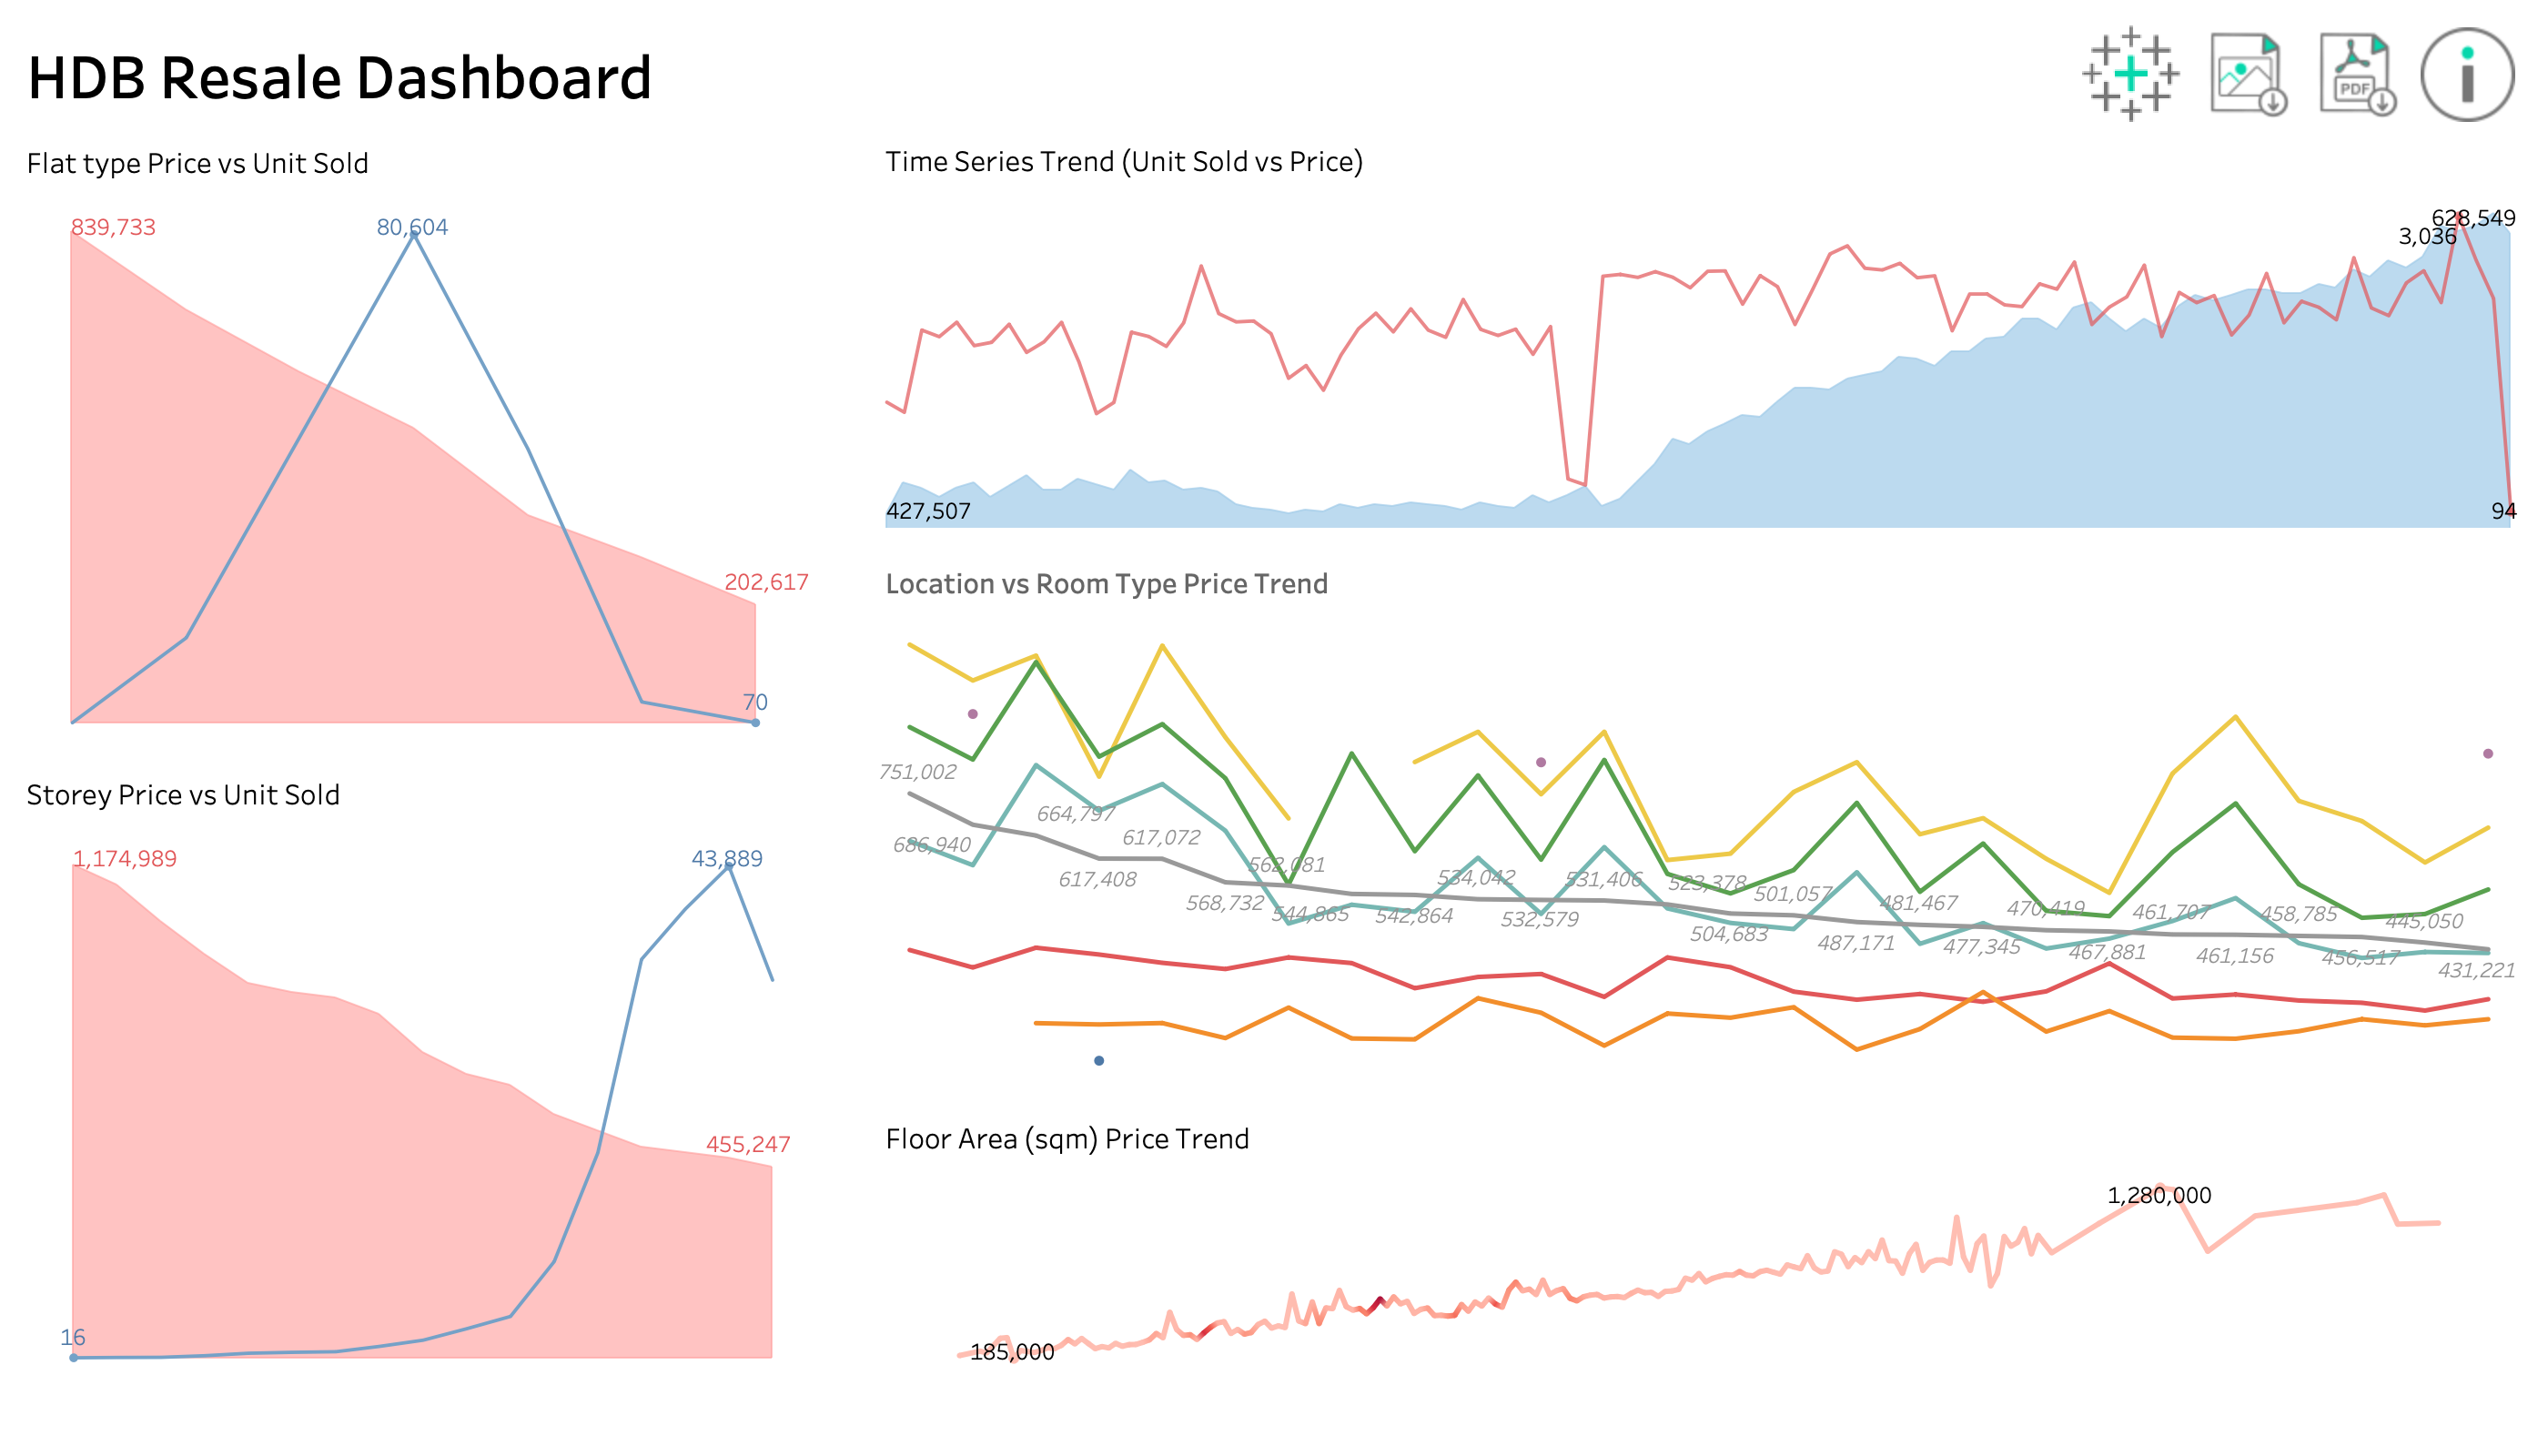

The page's visual inventory and layout, read from the dashboard file:
{"tool":"tableau","page":{"name":"Dashboard 1","canvas":[1400,800],"ordinal":0},"visuals":[{"type":"text","box":[8,8,602,66]},{"type":"blank","box":[610,8,534,66]},{"type":"image","param":"/Users/dong/Documents/Projects/[PY ML VS] HDB/Icons & Images/contact-public.png","box":[1144,8,60,66]},{"type":"dashboard-object","box":[1204,8,60,66]},{"type":"dashboard-object","box":[1264,8,60,66]},{"type":"dashboard-object","box":[1324,8,68,66]},{"type":"text","box":[8,74,448,30]},{"type":"text","box":[478,78,910,27]},{"type":"blank","box":[0,80,1400,235]},{"type":"worksheet","title":"flat type","mark":"Automatic","rows":["resale_price","flat_type"],"cols":["flat_type"],"box":[8,104,448,317]},{"type":"worksheet","title":"timeseries","mark":"Automatic","rows":["resale_price","resale_price"],"cols":["month"],"box":[478,105,910,189]},{"type":"text","box":[478,294,910,43]},{"type":"text","box":[0,315,1400,250]},{"type":"worksheet","title":"town","mark":"Line","rows":["resale_price","resale_price"],"cols":["town"],"box":[478,337,910,262]},{"type":"text","box":[8,421,448,30]},{"type":"worksheet","title":"level","mark":"Automatic","rows":["resale_price","storey_range"],"cols":["storey_range"],"box":[8,451,448,309]},{"type":"blank","box":[0,565,1400,235]},{"type":"text","box":[478,599,910,43]},{"type":"worksheet","title":"floor area","mark":"Line","rows":["resale_price"],"cols":["floor_area_sqm"],"box":[478,642,910,114]}]}

Visuals, with their boxes in screenshot pixels (x1, y1, x2, y2), scaled from the page's 1400x800 canvas onto the 2548x1456 screenshot:
text: (x1=15, y1=15, x2=1110, y2=135)
blank: (x1=1110, y1=15, x2=2082, y2=135)
image: (x1=2082, y1=15, x2=2191, y2=135)
dashboard-object: (x1=2191, y1=15, x2=2300, y2=135)
dashboard-object: (x1=2300, y1=15, x2=2410, y2=135)
dashboard-object: (x1=2410, y1=15, x2=2533, y2=135)
text: (x1=15, y1=135, x2=830, y2=189)
text: (x1=870, y1=142, x2=2526, y2=191)
blank: (x1=0, y1=146, x2=2547, y2=573)
"flat type" worksheet: (x1=15, y1=189, x2=830, y2=766)
"timeseries" worksheet: (x1=870, y1=191, x2=2526, y2=535)
text: (x1=870, y1=535, x2=2526, y2=613)
text: (x1=0, y1=573, x2=2547, y2=1028)
"town" worksheet (Line marks): (x1=870, y1=613, x2=2526, y2=1090)
text: (x1=15, y1=766, x2=830, y2=821)
"level" worksheet: (x1=15, y1=821, x2=830, y2=1383)
blank: (x1=0, y1=1028, x2=2547, y2=1455)
text: (x1=870, y1=1090, x2=2526, y2=1168)
"floor area" worksheet (Line marks): (x1=870, y1=1168, x2=2526, y2=1376)
